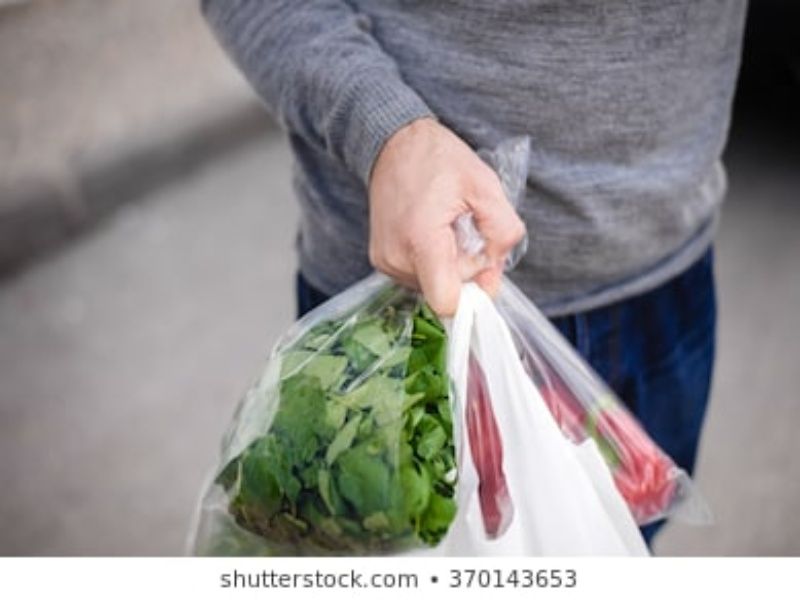plastic-bag: (458, 225, 742, 518), (184, 273, 415, 556), (446, 283, 657, 559)
